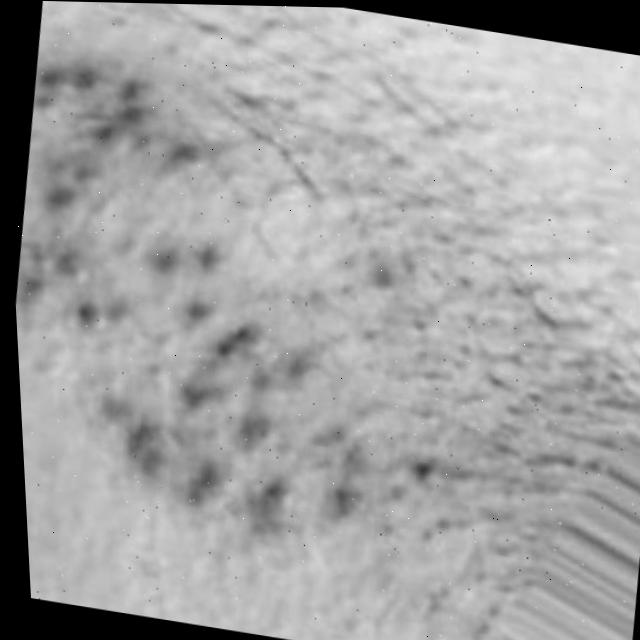Shingles: (3, 51, 423, 516)
